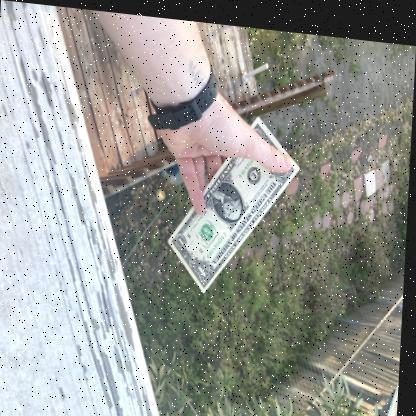one-front: (168, 109, 300, 288)
